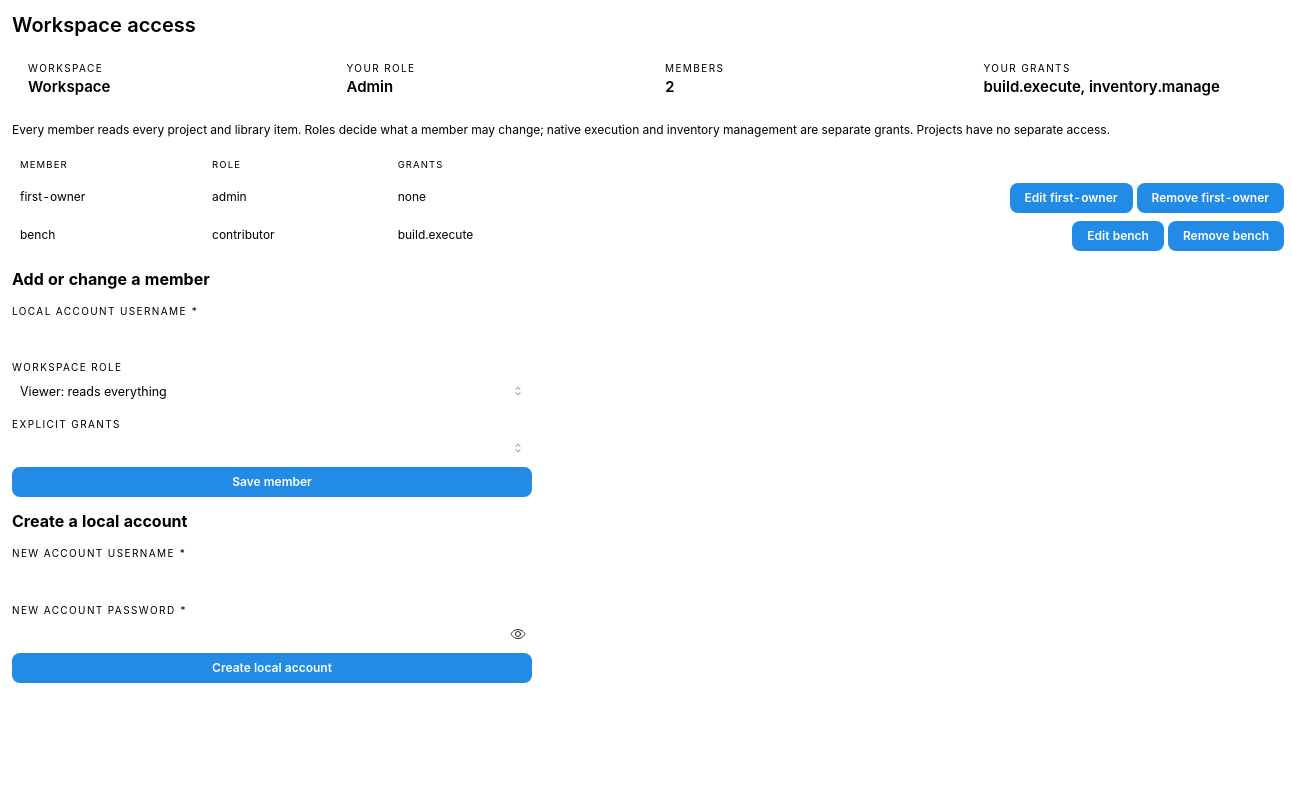
Test case: setting a member uses workspace.set_member with the access token, roles and explicit grants only
expect the text "bench" is shown: met, box [12,217,204,255]
Step 1. Click the button "Edit bench" → [1118, 236], box [1072,221,1164,251]
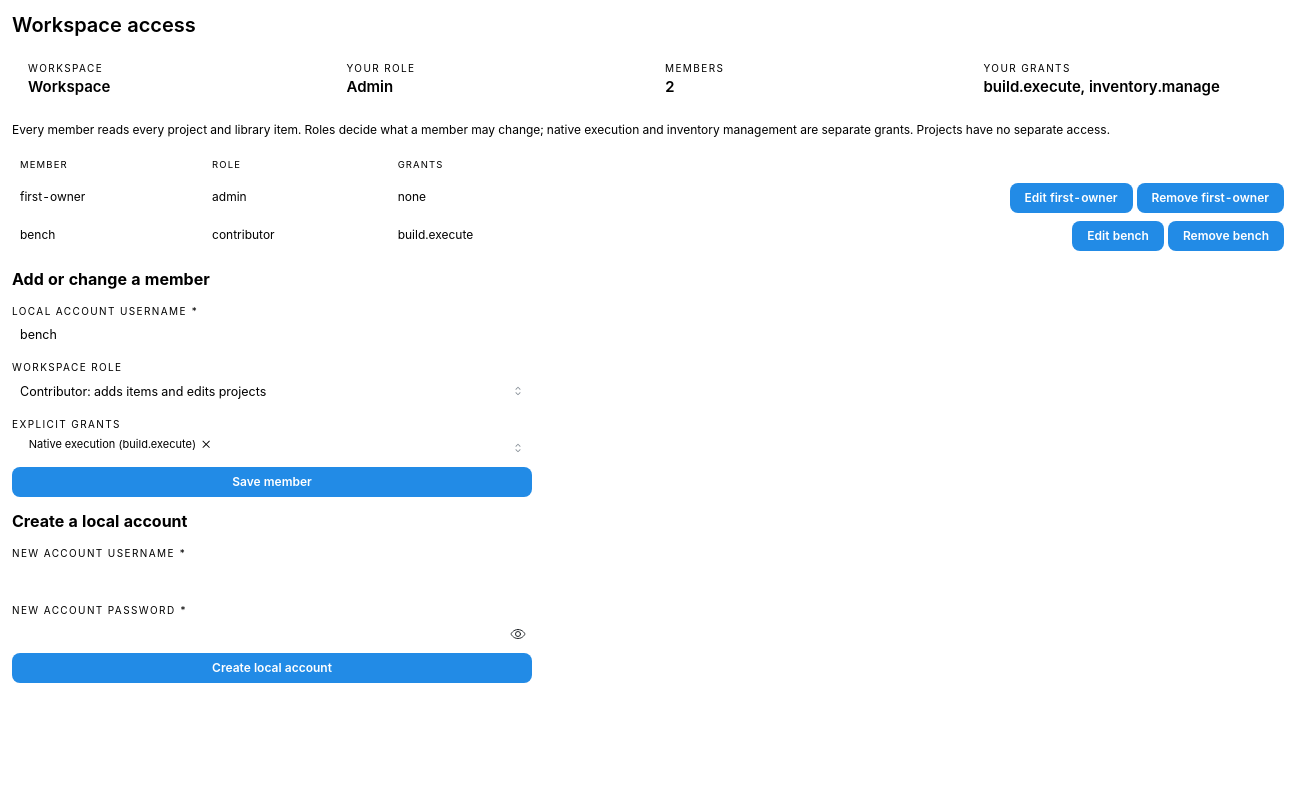
expect the field labelled "Local account username *" holds "bench": met, box [12,321,532,347]
Step 2. Click the button "Save member" → [272, 482], box [12,467,532,497]
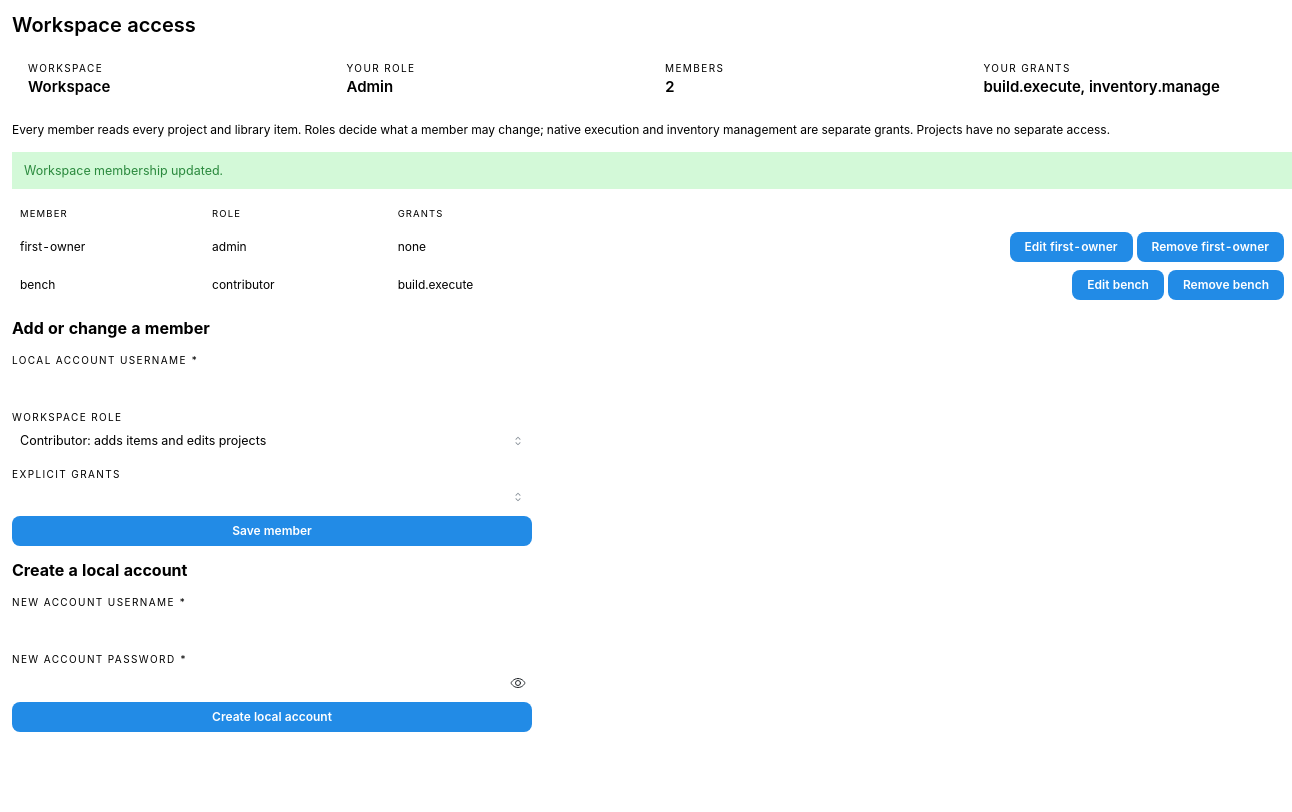
expect the text "Workspace membership updated." is shown: met, box [24,163,223,178]
